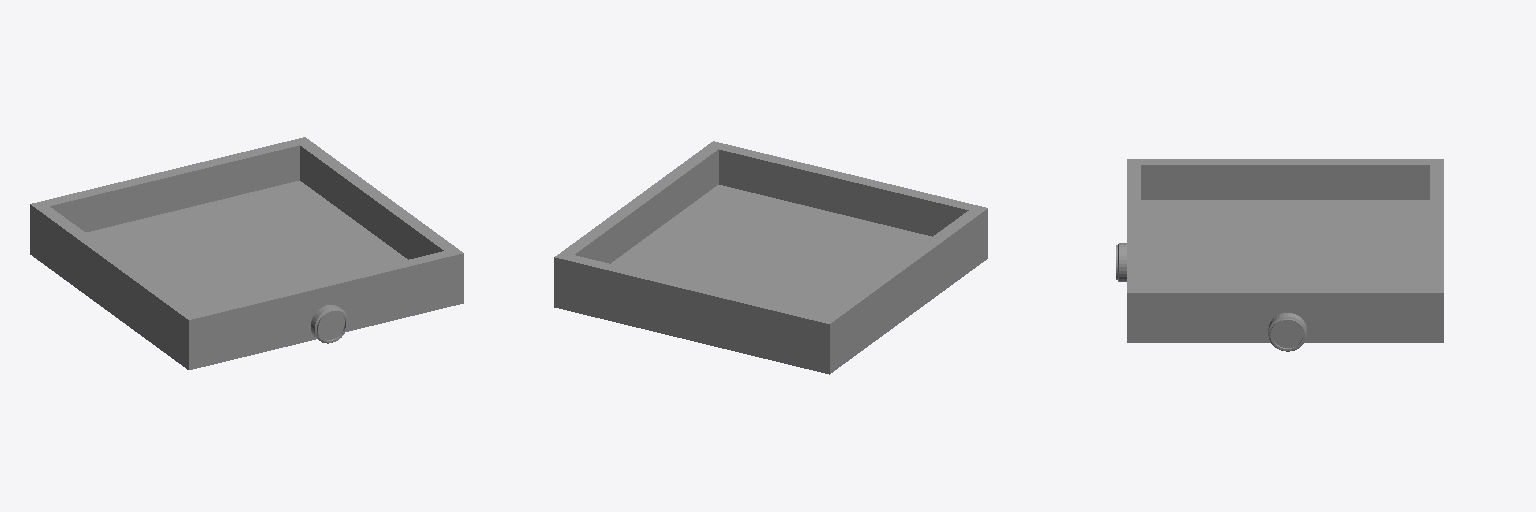
Rendered from casket.obj.
3 views of the same model, side by side, from view 1: azimuth 30°, elevation 25°; view 2: azimuth 150°, elevation 25°; view 3: azimuth 270°, elevation 25° (orthographic).
Visible parts, largest first — view 1: Curve.000_Mesh.001; view 2: Curve.000_Mesh.001; view 3: Curve.000_Mesh.001.
Boxes of the visible parts, <box> form: Curve.000_Mesh.001: <box>30,137,463,369</box>; Curve.000_Mesh.001: <box>554,141,987,374</box>; Curve.000_Mesh.001: <box>1116,159,1443,351</box>.
Size of the model in its own units: 17.13 by 3.05 by 16.96.